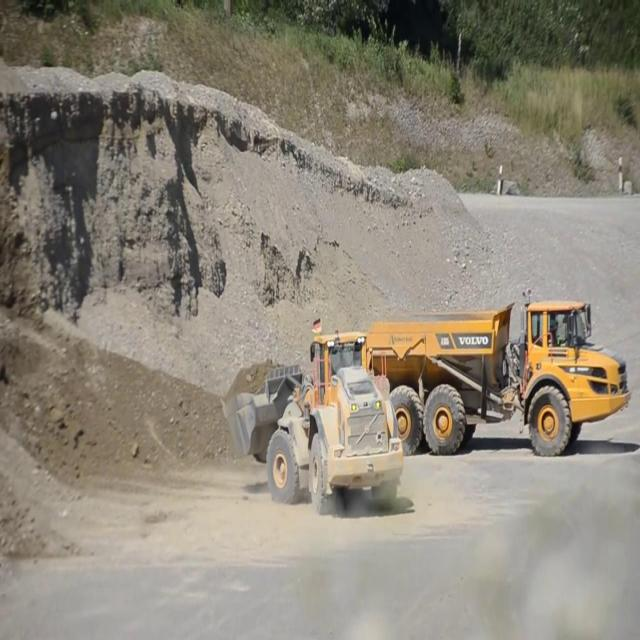buldozerpayloadergrader: (217, 329, 405, 518)
dump_truck: (362, 296, 632, 458)
